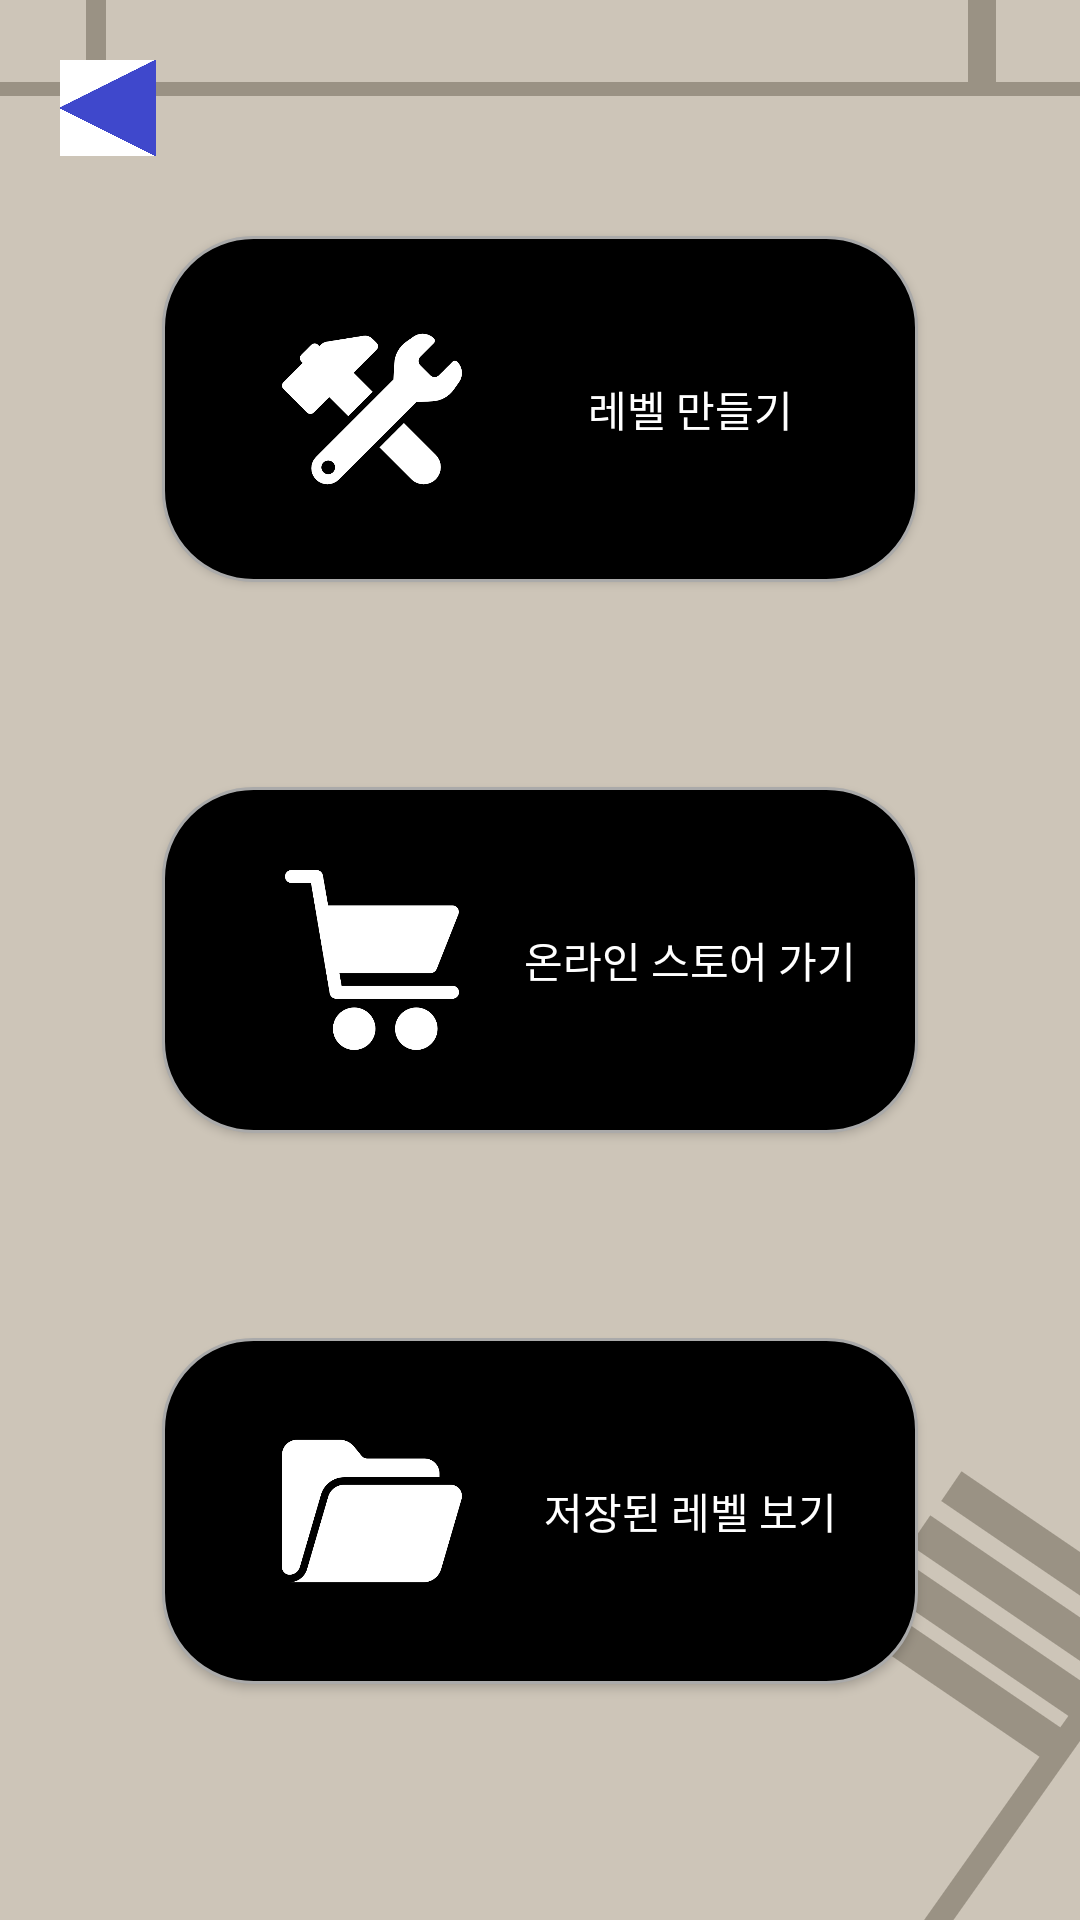

Named icons in this screenshot (1080×1920) and their centers, (x,y):
general back arrow: (108,108)
